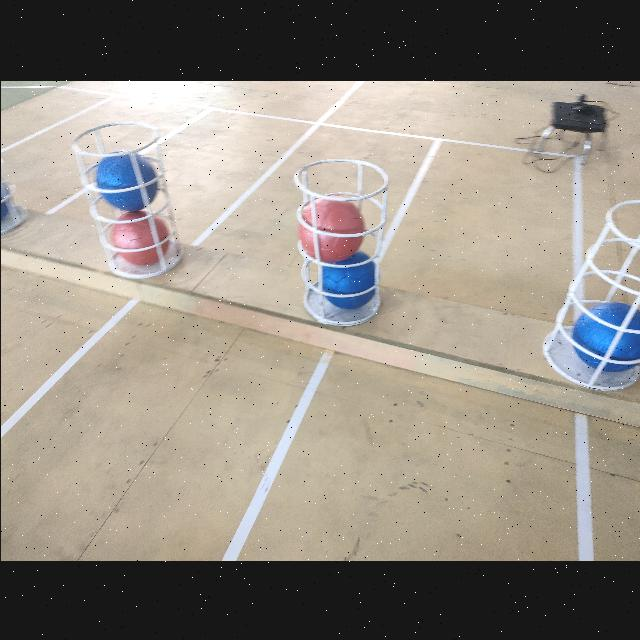B: (572, 301, 640, 371), (96, 152, 156, 210), (322, 248, 376, 306), (0, 175, 12, 219)
R: (296, 197, 364, 257), (109, 208, 168, 266)
